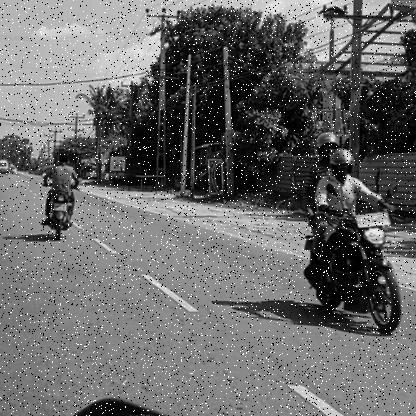motorcycle: (298, 211, 410, 336), (38, 190, 78, 245)
